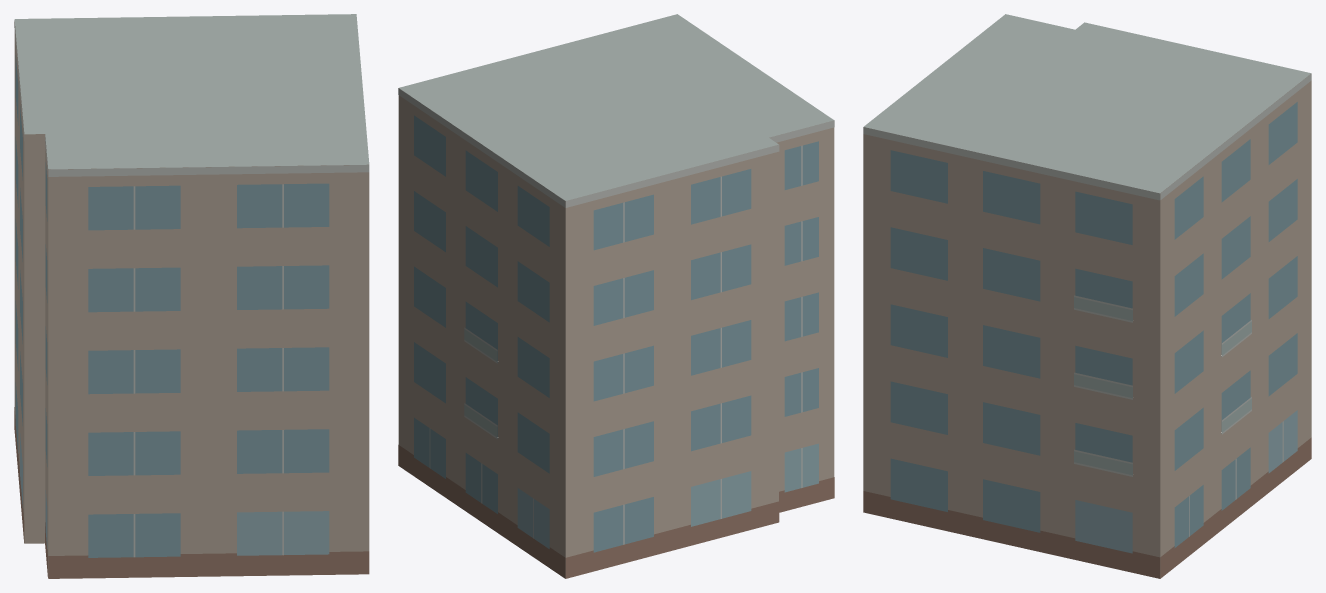
The model's file is survey-upis-32896101.glb.
The picture shows the model from 3 angles, left to right: view 1: azimuth 30°, elevation 25°; view 2: azimuth 150°, elevation 25°; view 3: azimuth 270°, elevation 25°; orthographic projection. The views are drawn at different scales.
Visible parts, largest first — view 1: survey-upis-32896101.tmp; view 2: survey-upis-32896101.tmp; view 3: survey-upis-32896101.tmp.
Boxes of the visible parts, left/top/right/bottom form: survey-upis-32896101.tmp: left=14, top=14, right=369, bottom=578; survey-upis-32896101.tmp: left=398, top=14, right=834, bottom=578; survey-upis-32896101.tmp: left=863, top=14, right=1311, bottom=578.
Bounding box in the file's own units: 13.18 × 13.2 × 13.92.
